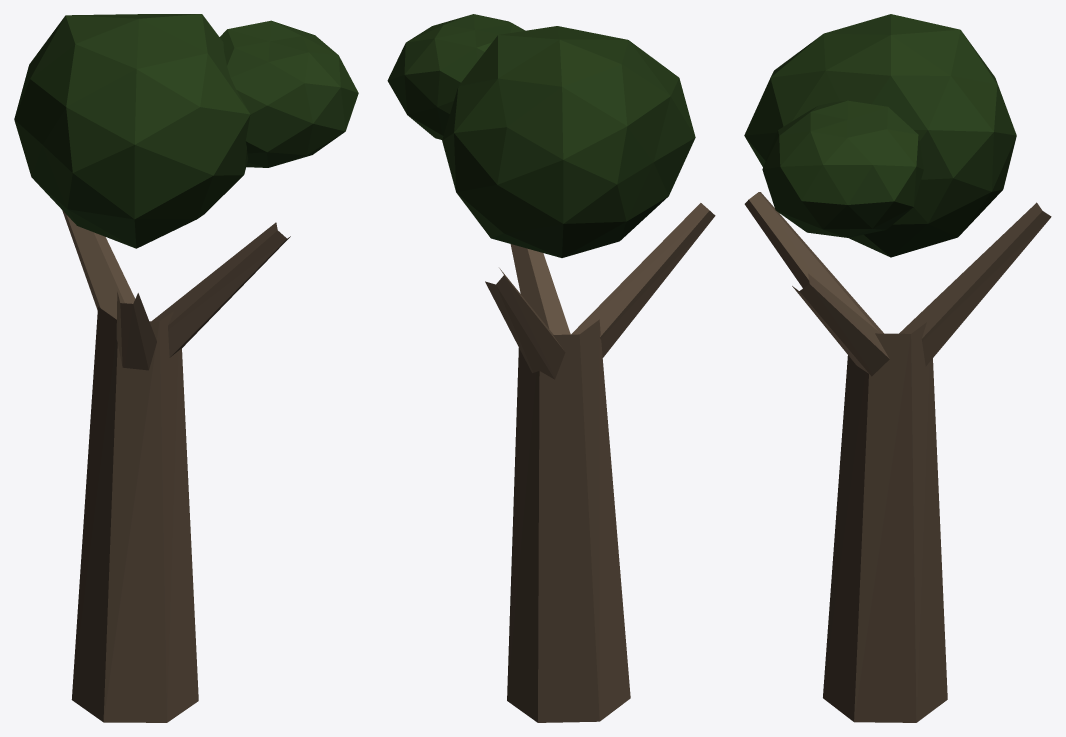
Rendered from 0041-Ecosystem-trees-oak-2.glb.
3 views of the same model, side by side, from view 1: azimuth 30°, elevation 25°; view 2: azimuth 150°, elevation 25°; view 3: azimuth 270°, elevation 25° (orthographic). The views are drawn at different scales.
Visible parts, largest first — view 1: Ecosystem trees/oak/2; view 2: Ecosystem trees/oak/2; view 3: Ecosystem trees/oak/2.
Part boxes in pixels (x1,y1,x2,y2): Ecosystem trees/oak/2: [14, 14, 358, 722]; Ecosystem trees/oak/2: [387, 14, 715, 722]; Ecosystem trees/oak/2: [744, 14, 1051, 722].
Size of the model in its own units: 0.2983 by 0.678 by 0.2828.
